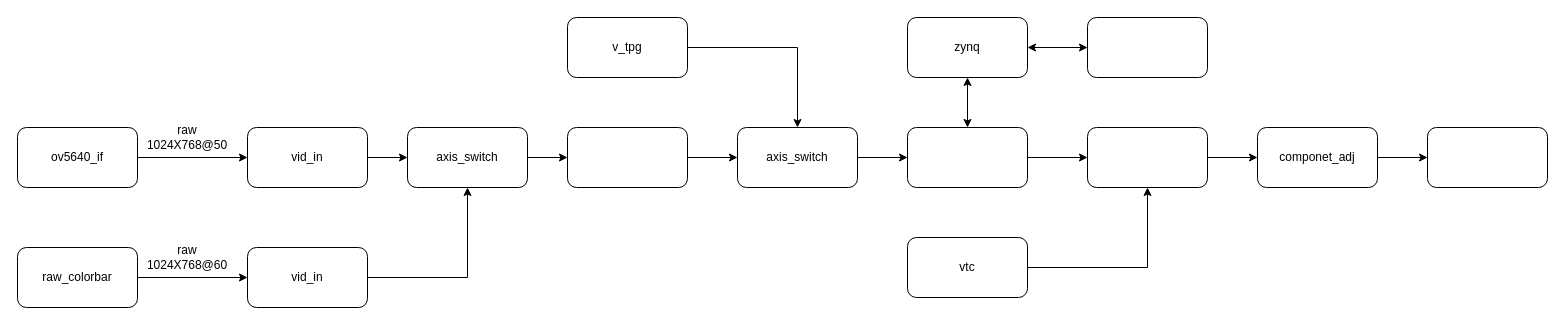
Some shapes in this 1565 by 325 pixel diagram are drawn without their labels. Here are the shapes that lost their labels. From the top down, the centre of each, then its label:
At (1147,47): "DDR3".
At (627,157): "demosaic".
At (967,157): "vdma".
At (1147,157): "vid_out".
At (1487,157): "SIL9134".
